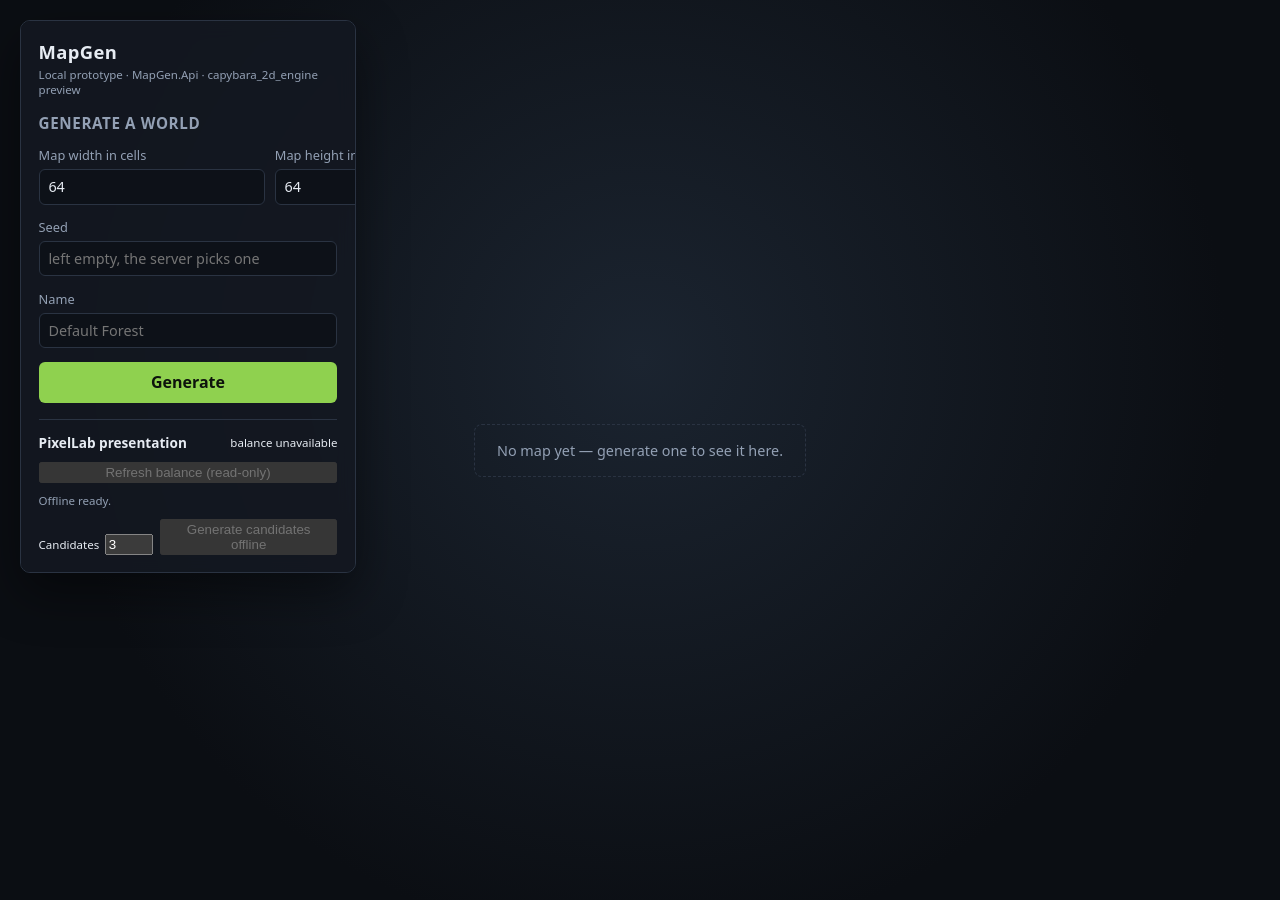
Scenario: MapStudioPage › shows the failure and no map when the job fails
Click the button "Generate".
click(188, 382)  # box [39,362,337,403]
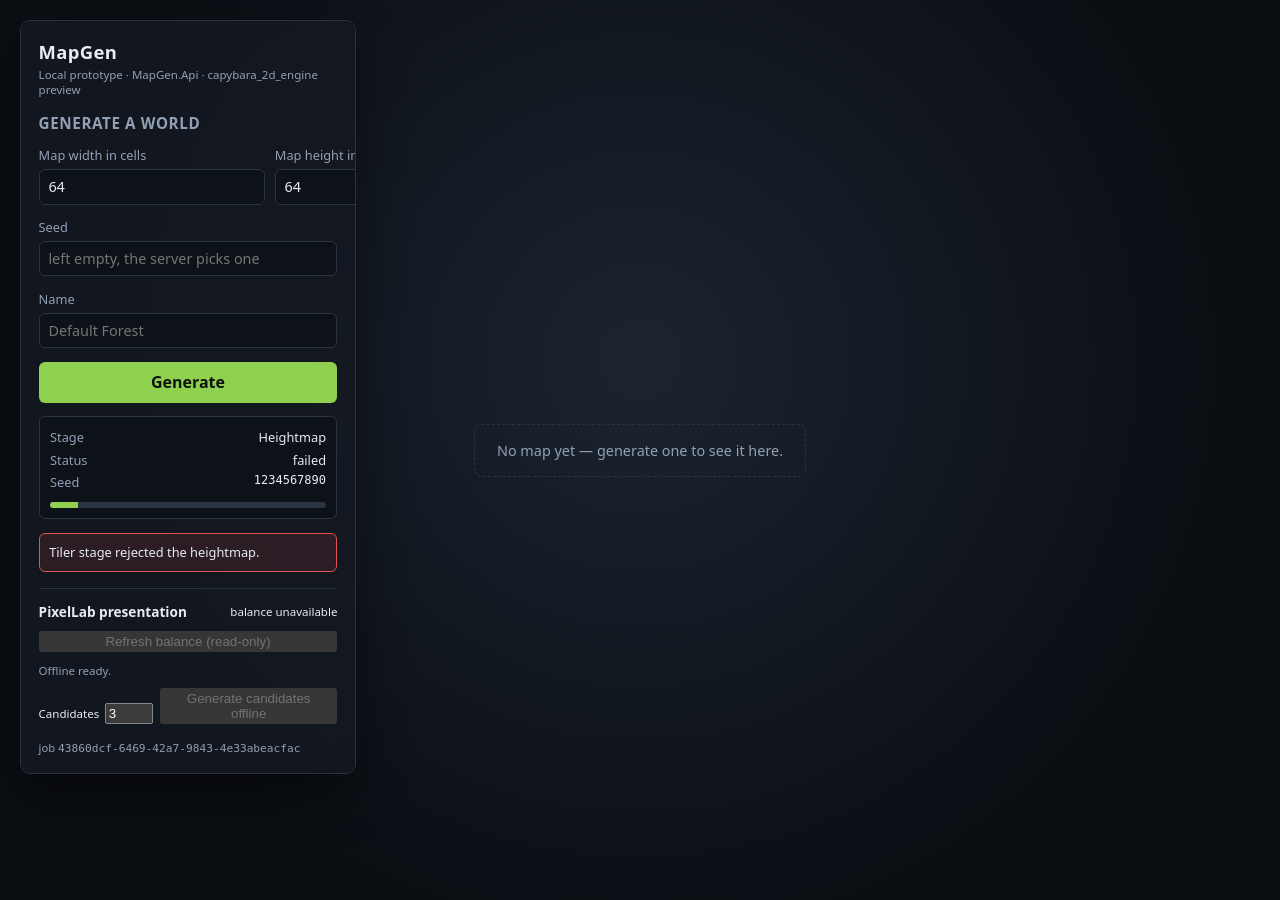
Expected: the text "No map yet — generate one to see it here." is shown, [474,424,806,476]
Expected: the message reads "Tiler stage rejected the heightmap.", [49,543,259,561]
